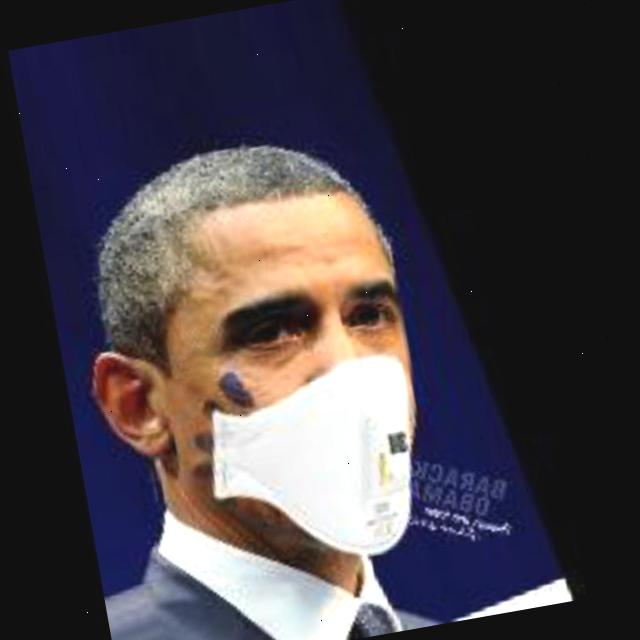suspicion: (56, 120, 492, 614)
